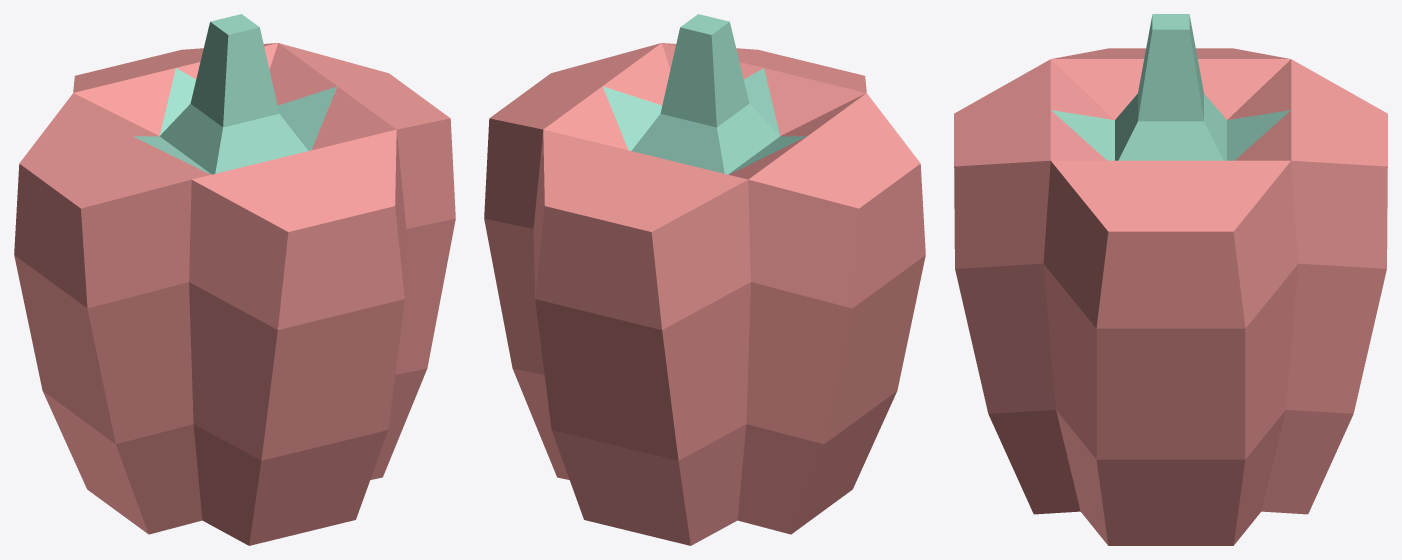
Rendered from paprika.glb.
3 renders of one model, left to right at view 1: azimuth 30°, elevation 25°; view 2: azimuth 150°, elevation 25°; view 3: azimuth 270°, elevation 25°, orthographic.
Parts seen in each view (by area): view 1: paprika; view 2: paprika; view 3: paprika.
Part boxes in pixels (x1,y1,x2,y2): paprika: (14, 14, 455, 545); paprika: (484, 14, 925, 545); paprika: (954, 14, 1387, 545).
Size of the model in its own units: 0.1681 by 0.1993 by 0.1681.
